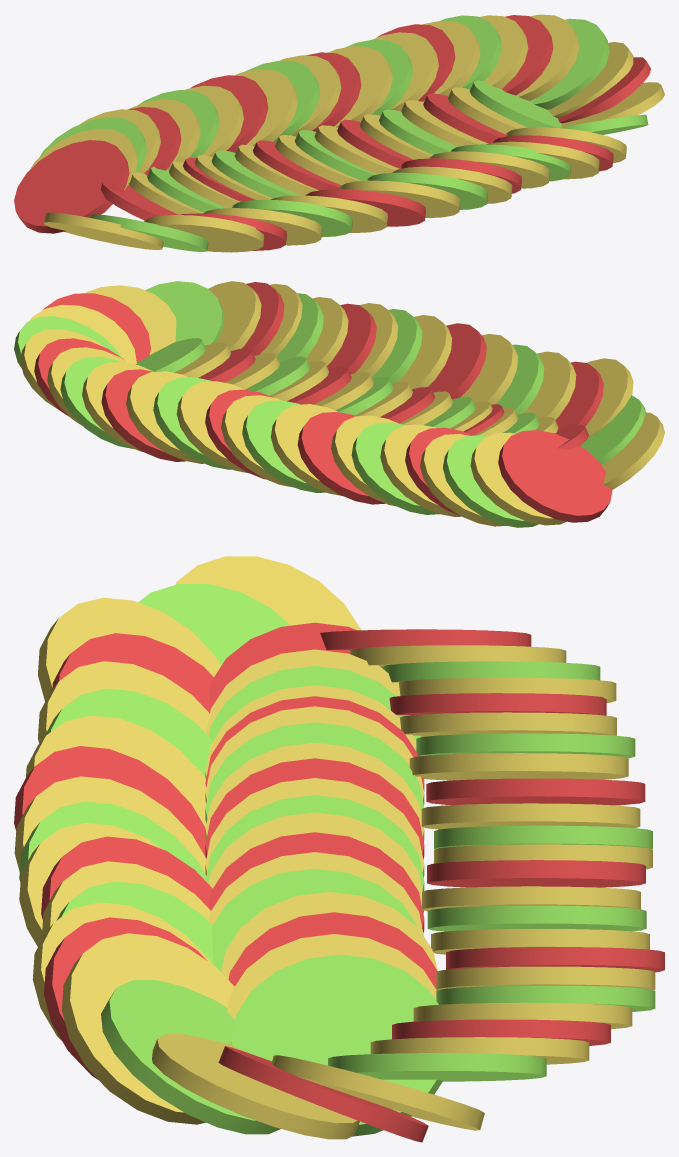
File: uncooked_ratatouille.fbx
3 views of the same model, one above another, from view 1: azimuth 30°, elevation 25°; view 2: azimuth 150°, elevation 25°; view 3: azimuth 270°, elevation 25° (orthographic). The views are drawn at different scales.
Visible parts, largest first — view 1: pCylinder52, pCylinder19, pCylinder72, pCylinder10, pCylinder43, pCylinder18, pCylinder41, pCylinder44, pCylinder70, pCylinder32, pCylinder17, pCylinder12 (+51 smaller); view 2: pCylinder52, pCylinder23, pCylinder44, pCylinder51, pCylinder50, pCylinder46, pCylinder42, pCylinder33, pCylinder10, pCylinder12, pCylinder24, pCylinder22 (+50 smaller); view 3: pCylinder70, pCylinder24, pCylinder23, pCylinder22, pCylinder72, pCylinder41, pCylinder34, pCylinder33, pCylinder40, pCylinder8, pCylinder45, pCylinder44 (+51 smaller).
Boxes of the visible parts, x1,y1,x2,y2 form: pCylinder52: (14,140,129,233); pCylinder19: (530,18,609,109); pCylinder72: (144,215,264,252); pCylinder10: (328,46,392,127); pCylinder43: (234,69,297,145); pCylinder18: (516,14,579,100); pCylinder41: (43,212,163,249); pCylinder44: (190,75,268,152); pCylinder70: (469,80,561,127); pCylinder32: (340,180,460,217); pCylinder17: (502,15,553,95); pCylinder12: (373,32,438,111); pCylinder52: (498,430,612,522); pCylinder23: (145,281,224,345); pCylinder44: (297,412,385,504); pCylinder51: (470,432,566,525); pCylinder50: (443,435,538,527); pCylinder46: (351,422,439,514); pCylinder42: (242,400,325,492); pCylinder33: (428,323,486,399); pCylinder10: (176,381,249,473); pCylinder12: (126,371,203,463); pCylinder24: (208,281,261,351); pCylinder22: (84,285,176,354); pCylinder70: (231,954,442,1136); pCylinder24: (61,933,234,1124); pCylinder23: (101,980,280,1134); pCylinder22: (152,1034,359,1139); pCylinder72: (38,597,220,701); pCylinder41: (175,556,361,630); pCylinder34: (26,715,206,827); pCylinder33: (14,746,205,857); pCylinder40: (138,584,290,665); pCylinder8: (427,860,645,887); pCylinder45: (409,753,628,780); pCylinder44: (426,778,645,805).
Size of the model in its own units: 61.03 by 7.79 by 31.54.
